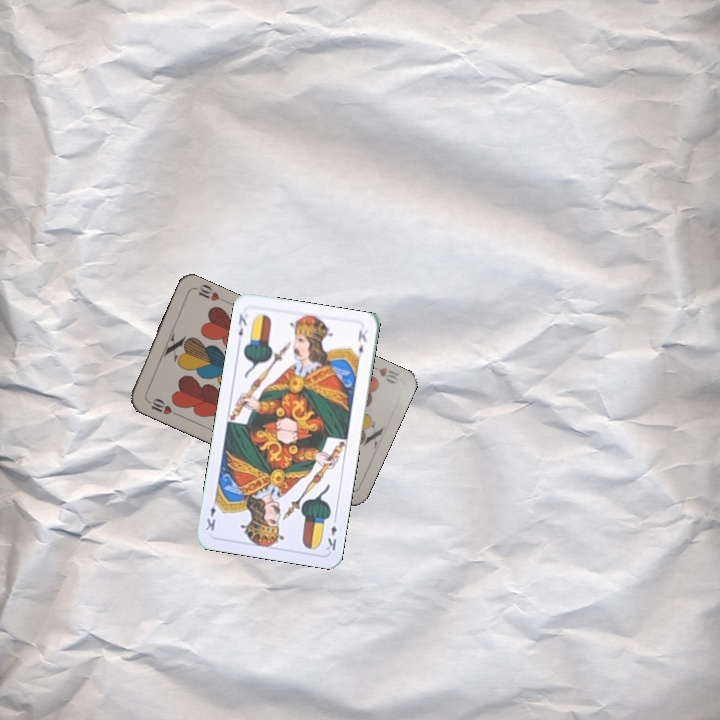EK: (322, 513, 339, 553), (234, 309, 249, 339)
H10: (364, 360, 401, 387), (142, 394, 180, 418)
